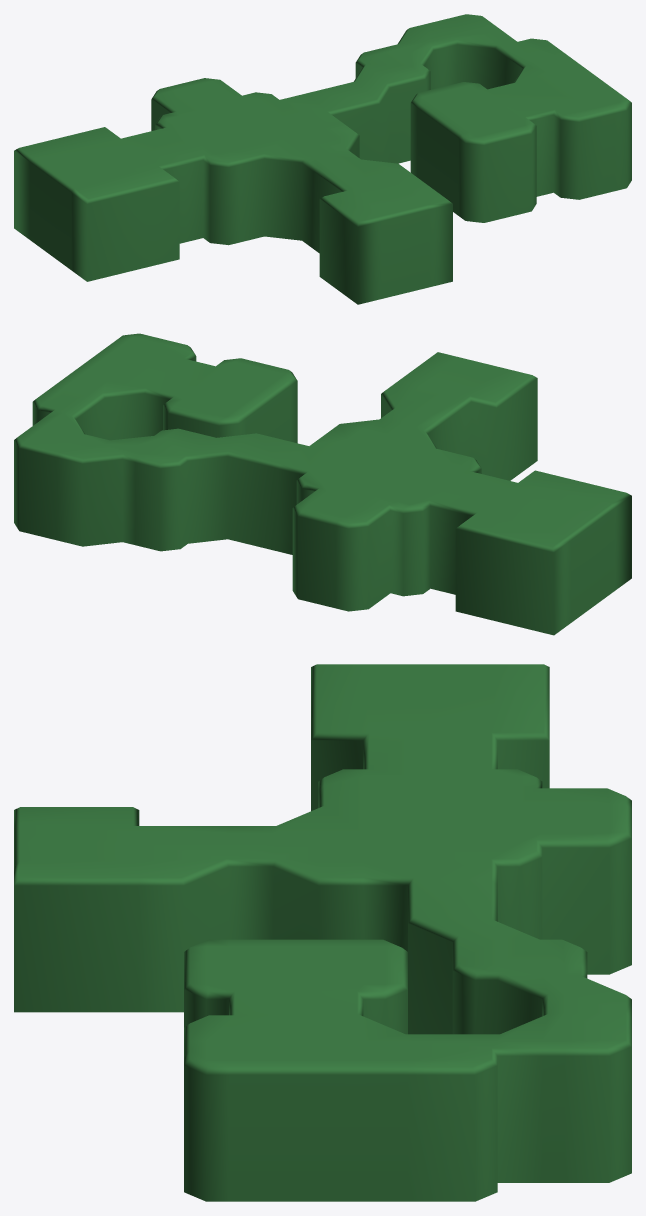
The model's file is Ground.fbx.
3 views of the same model, one above another, from view 1: azimuth 30°, elevation 25°; view 2: azimuth 150°, elevation 25°; view 3: azimuth 270°, elevation 25° (orthographic). The views are drawn at different scales.
Parts seen in each view (by area): view 1: Ground; view 2: Ground; view 3: Ground.
Part boxes in pixels (x1,y1,x2,y2): Ground: (14,14,631,304); Ground: (14,333,631,635); Ground: (14,664,631,1201).
Bounding box in the file's own units: 241 × 36.35 × 154.
